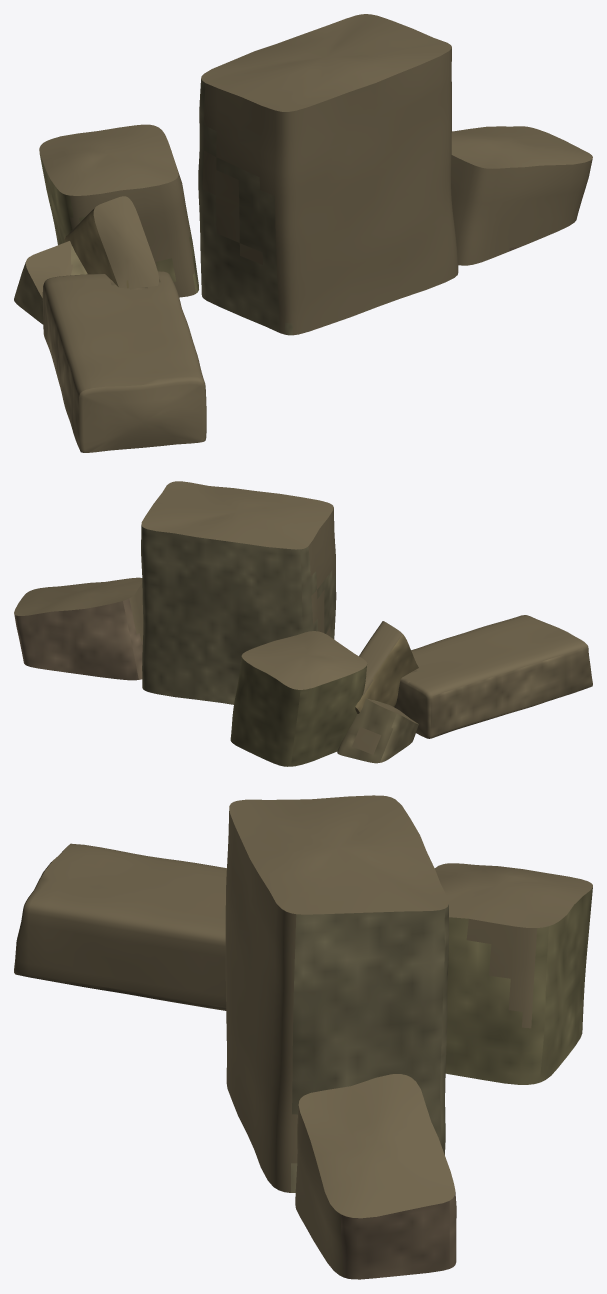
File: ZonHenge02.glb
3 views of the same model, one above another, from view 1: azimuth 30°, elevation 25°; view 2: azimuth 150°, elevation 25°; view 3: azimuth 270°, elevation 25° (orthographic). The views are drawn at different scales.
Visible parts, largest first — view 1: ZonHenge02; view 2: ZonHenge02; view 3: ZonHenge02.
Part boxes in pixels (x1,y1,x2,y2): ZonHenge02: [14, 14, 592, 452]; ZonHenge02: [14, 481, 592, 766]; ZonHenge02: [14, 795, 592, 1279].
Bounding box in the file's own units: 5.12 × 1.77 × 3.32.
2 materials, 1 textured.
